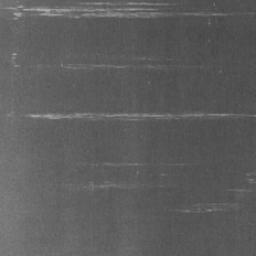Waist folding: (0, 50, 239, 76), (0, 0, 256, 22), (0, 110, 256, 123), (77, 160, 167, 177), (66, 179, 171, 193), (170, 201, 239, 215), (227, 171, 256, 193), (31, 83, 75, 90), (169, 162, 199, 167)
